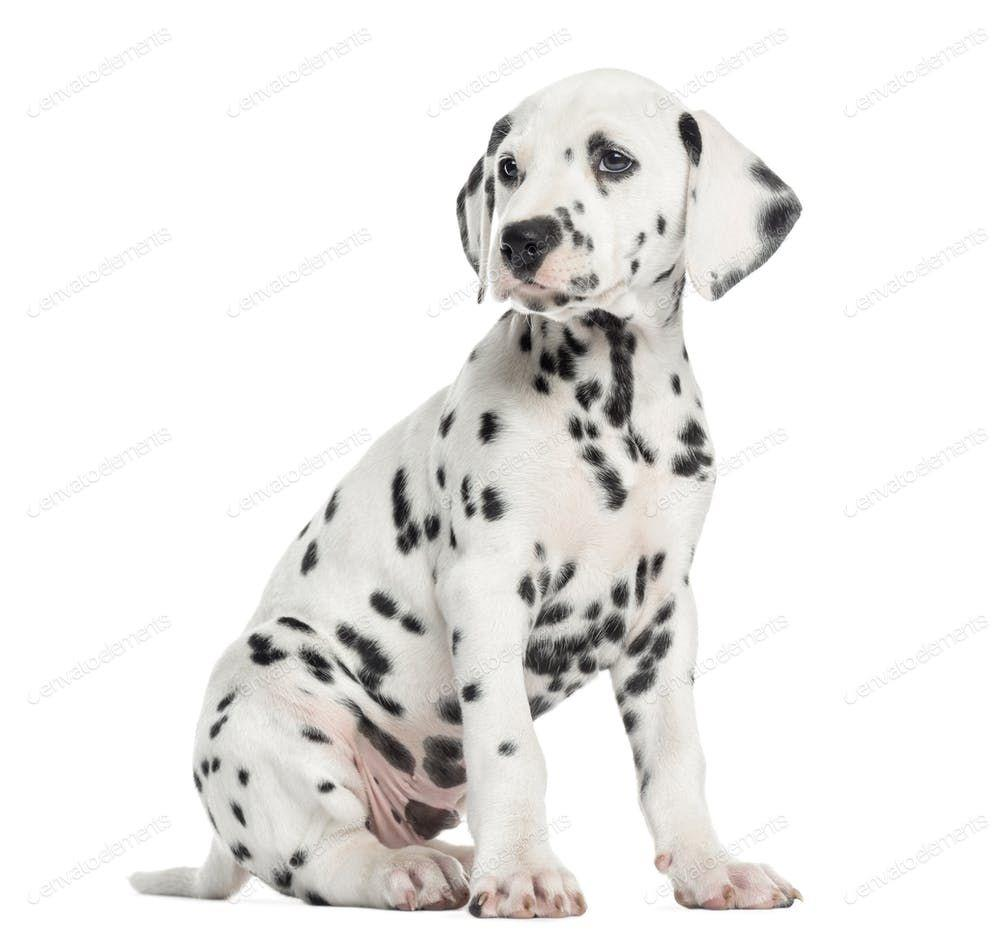puppy-dog: (125, 68, 806, 920)
